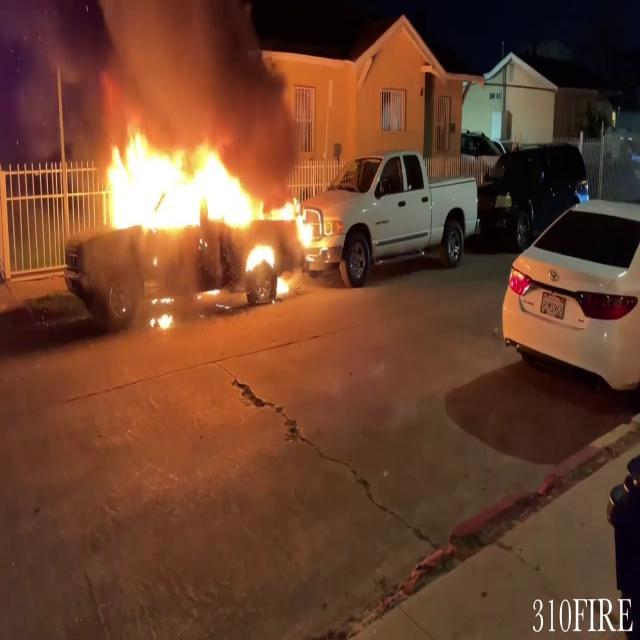Fire: (95, 123, 330, 281)
Smoke: (15, 0, 312, 144)
